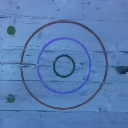Axe Tip: (114, 67, 124, 69)
